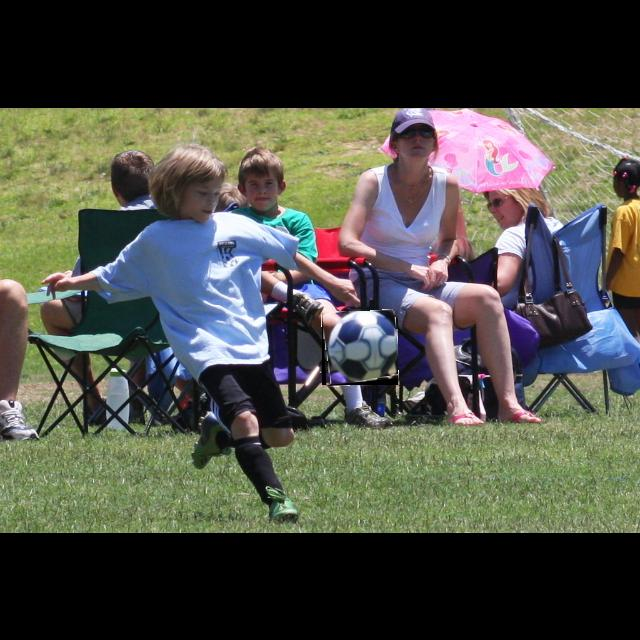Football: (322, 311, 398, 385)
